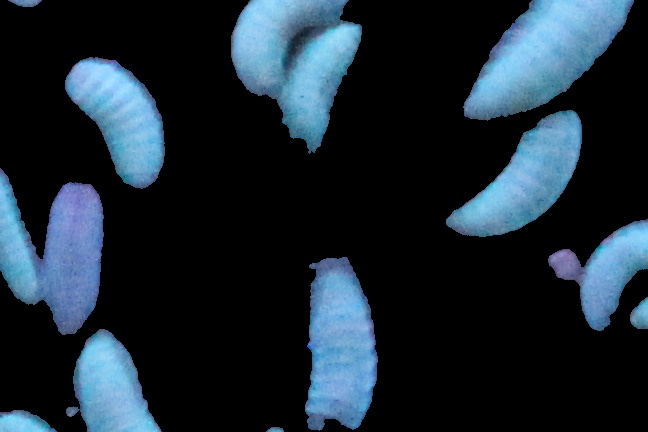larvae: (462, 1, 633, 120), (448, 118, 590, 247), (299, 256, 378, 432), (276, 20, 362, 164), (68, 61, 162, 188), (41, 187, 109, 337), (232, 1, 333, 93), (73, 329, 157, 432), (582, 222, 648, 331), (1, 163, 42, 312)
